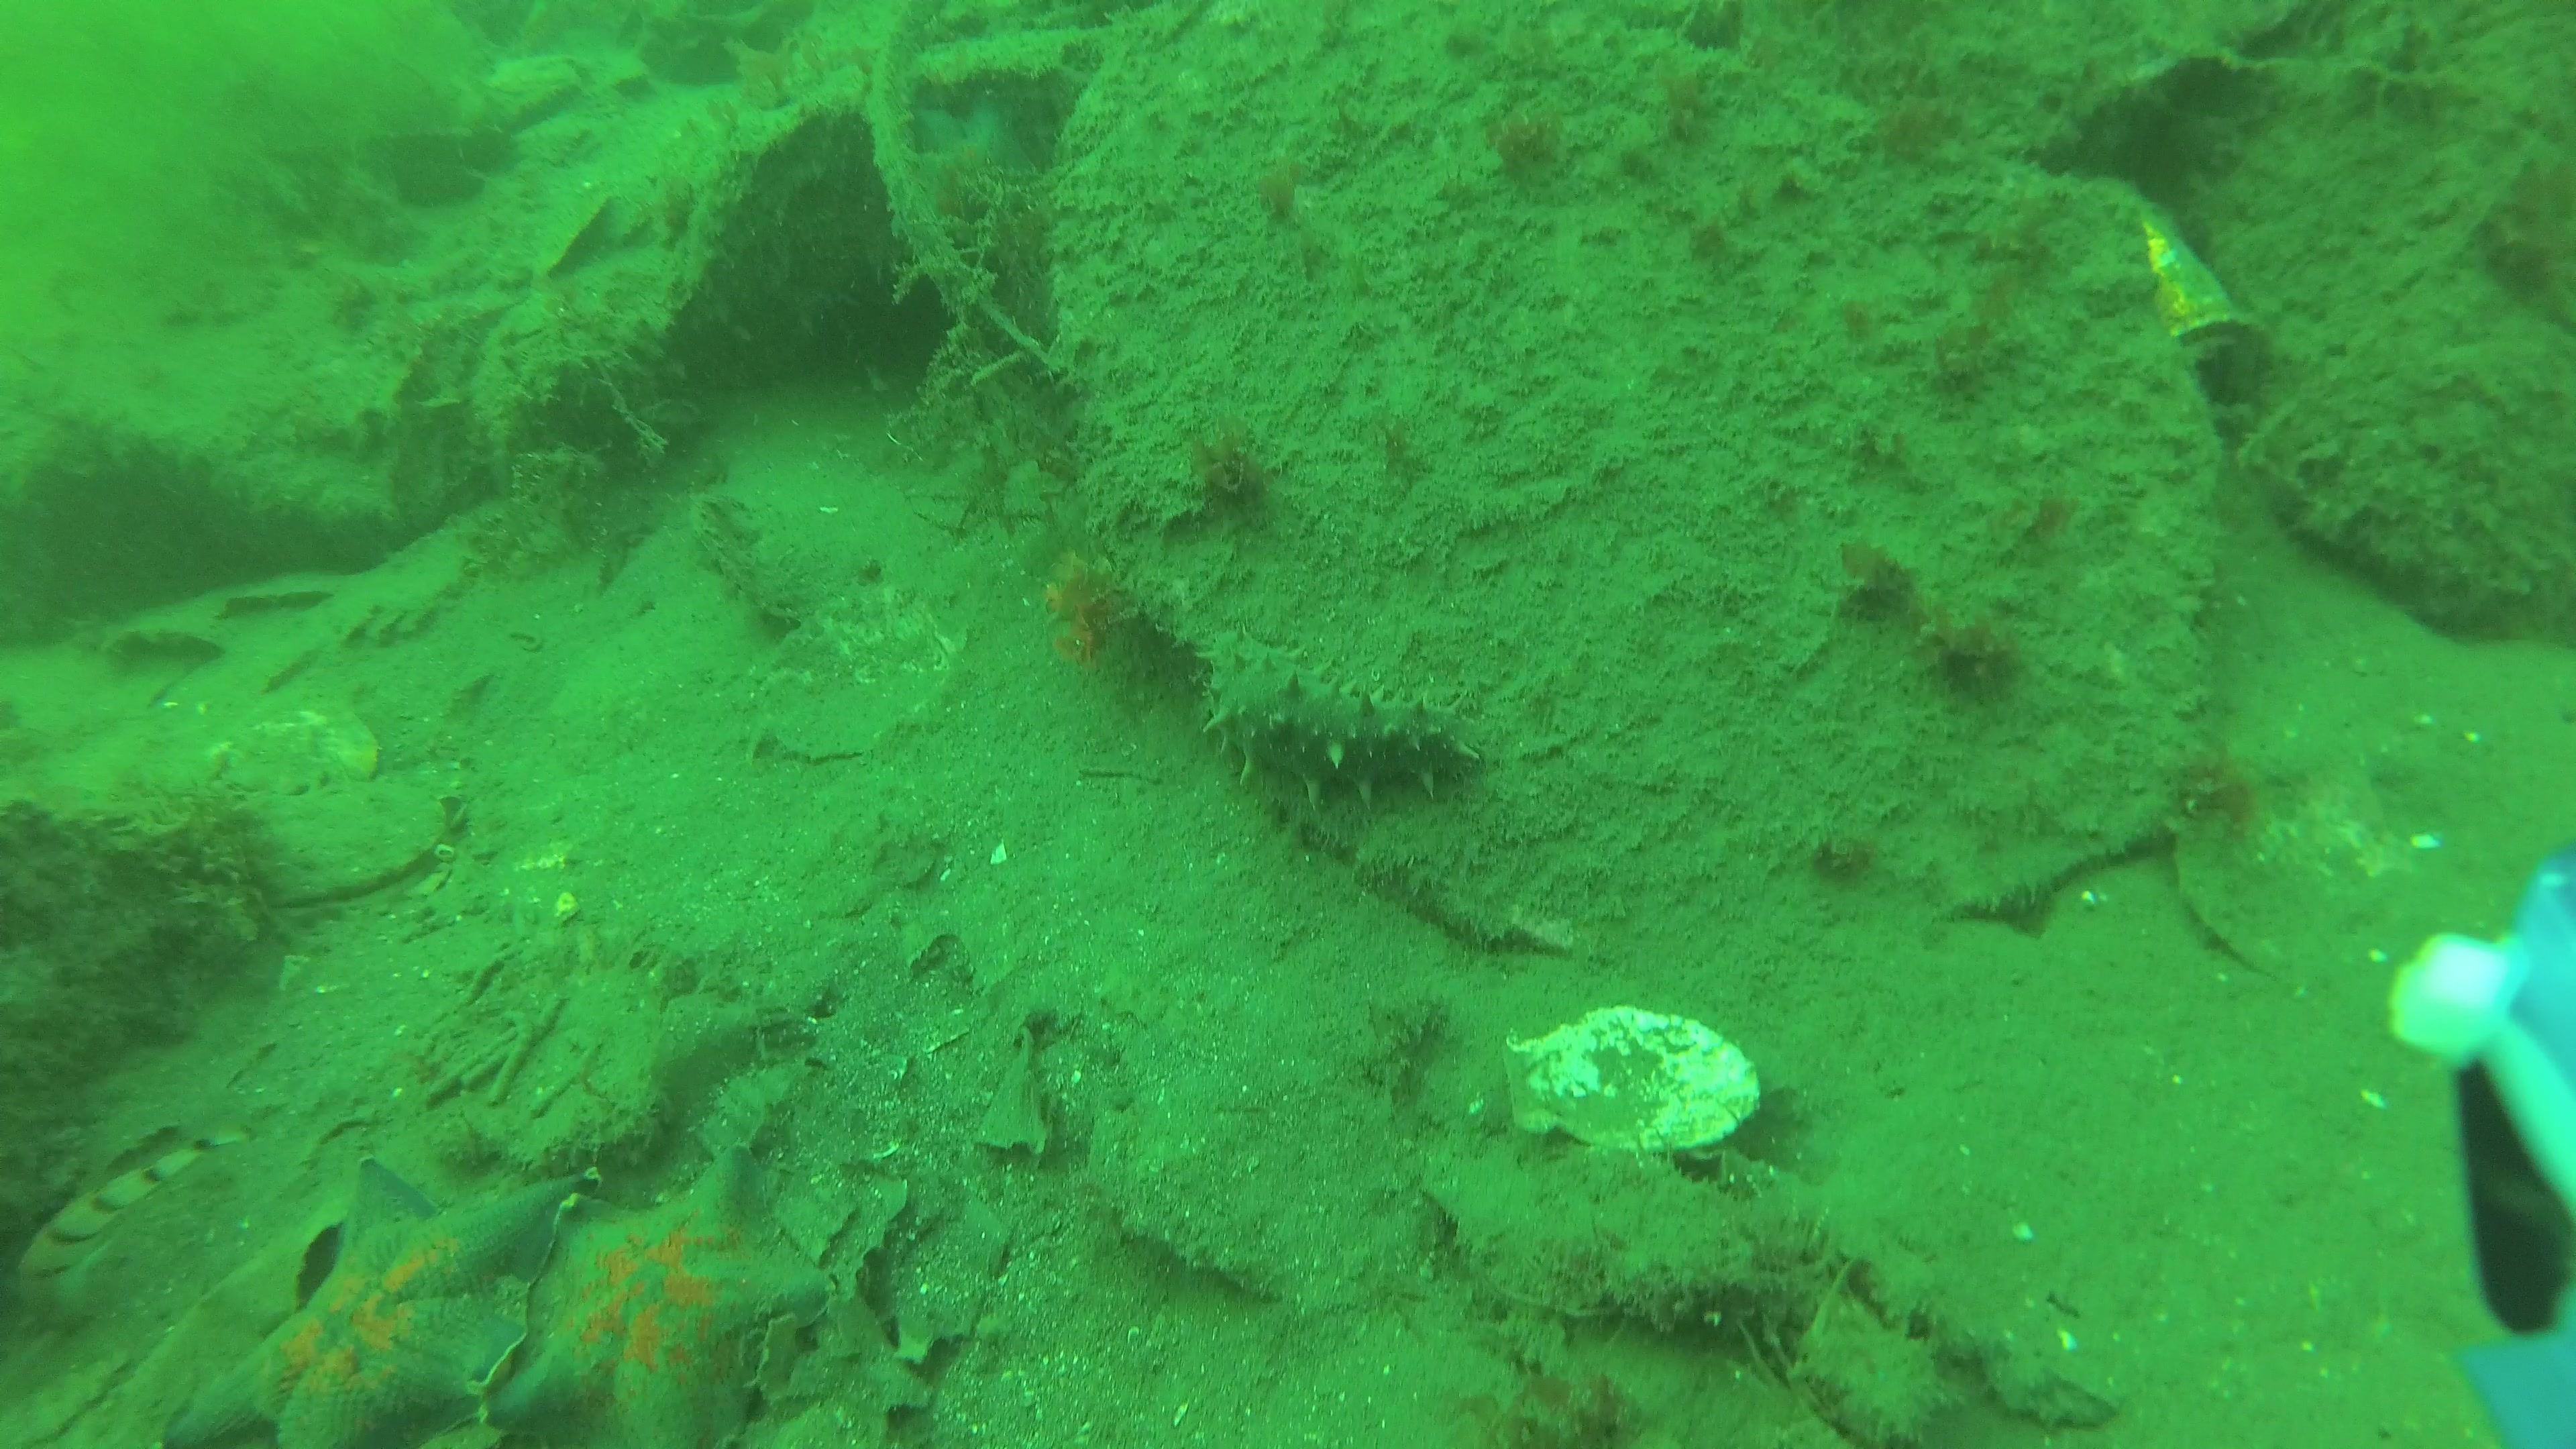holothurian: (1194, 626, 1483, 812)
scallop: (2173, 786, 2434, 991), (755, 589, 970, 766), (1507, 1010, 1764, 1155), (258, 771, 448, 908), (189, 709, 379, 810)
starfish: (159, 1157, 591, 1449), (472, 1136, 826, 1442), (913, 94, 1039, 226)
